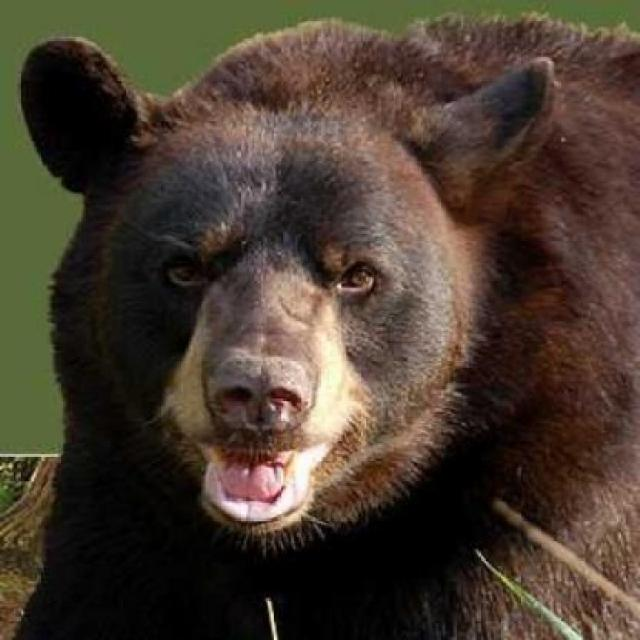Bear: (41, 22, 639, 640)
